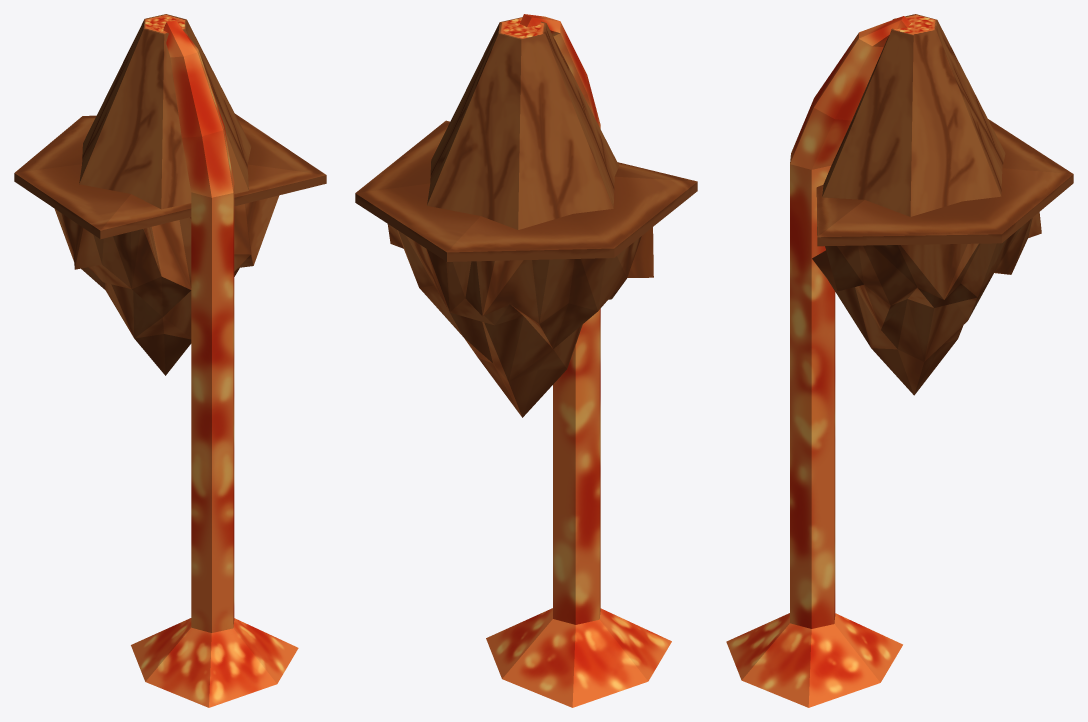
File: Island_Volcano.glb
3 renders of one model, left to right at view 1: azimuth 30°, elevation 25°; view 2: azimuth 150°, elevation 25°; view 3: azimuth 270°, elevation 25°, orthographic. The views are drawn at different scales.
Visible parts, largest first — view 1: Ilha, Lava_0; view 2: Ilha, Lava_0; view 3: Ilha, Lava_0.
Boxes of the visible parts, x1,y1,x2,y2 form: Ilha: (14, 14, 326, 632); Lava_0: (131, 618, 298, 707); Ilha: (355, 14, 697, 624); Lava_0: (486, 608, 671, 707); Ilha: (790, 14, 1073, 628); Lava_0: (726, 613, 902, 707).
Bounding box in the file's own units: 2.44 × 6.32 × 3.
2 materials, 2 textured.
